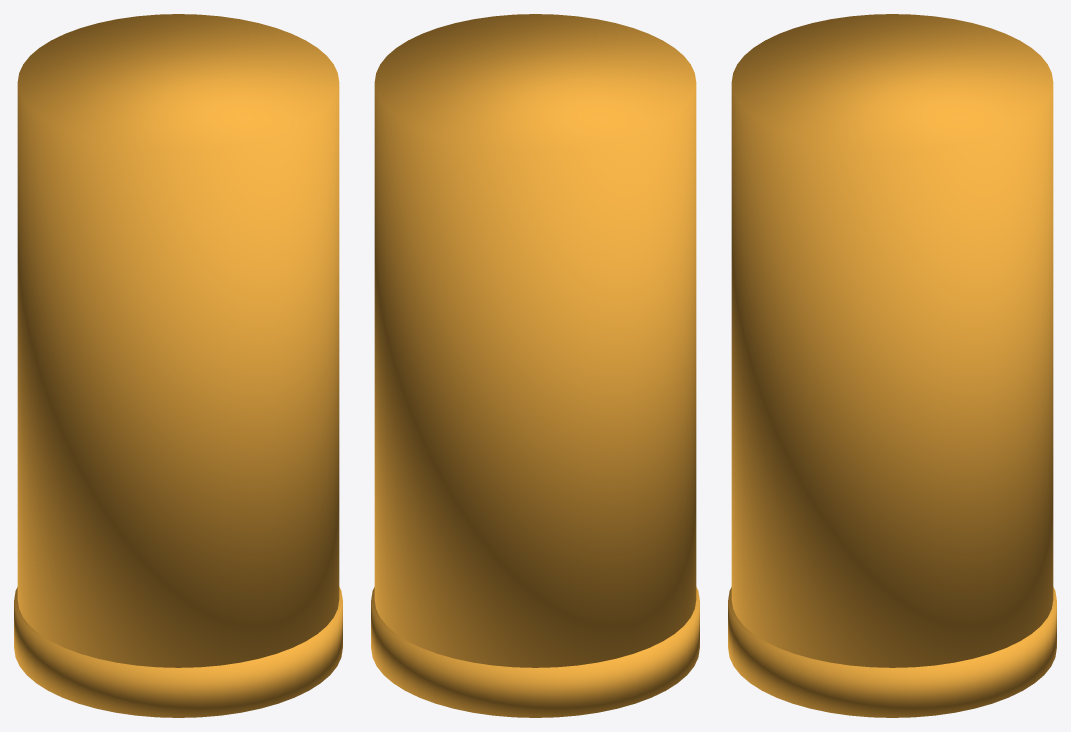
File: cap.glb
The picture shows the model from 3 angles, left to right: view 1: azimuth 30°, elevation 25°; view 2: azimuth 150°, elevation 25°; view 3: azimuth 270°, elevation 25°; orthographic projection.
Parts seen in each view (by area): view 1: cap_body, cap_ring; view 2: cap_body, cap_ring; view 3: cap_body, cap_ring.
Boxes of the visible parts, x1,y1,x2,y2 form: cap_body: (17, 14, 339, 667); cap_ring: (14, 587, 342, 717); cap_body: (374, 14, 696, 667); cap_ring: (371, 587, 699, 717); cap_body: (731, 14, 1053, 667); cap_ring: (728, 587, 1056, 717).
Size of the model in its own units: 0.0184 by 0.035 by 0.0184.
